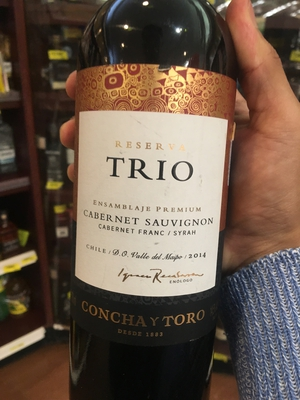trio cabernet sauvignon: (56, 8, 235, 400)
